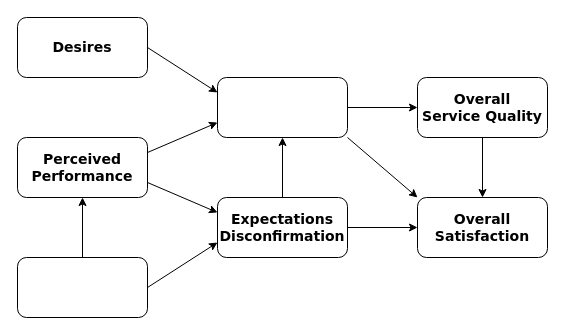
Image size: 565x335. Some labels were removed from this diagram. Each missing label, with the centre of its shape:
Desires Congruency: pixel 282 107
Expectations: pixel 82 287
